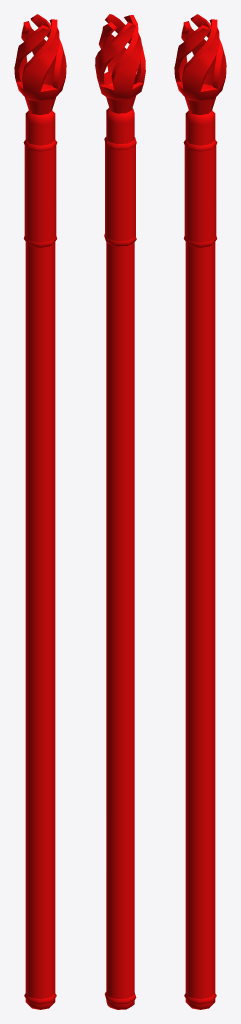
Rendered from Staff01.FBX.
3 renders of one model, left to right at view 1: azimuth 90°, elevation 25°; view 2: azimuth 210°, elevation 25°; view 3: azimuth 270°, elevation 25°, orthographic.
Visible parts, largest first — view 1: Staff01; view 2: Staff01; view 3: Staff01.
Part boxes in pixels (bbox=[...]): Staff01: bbox=[14, 14, 66, 1009]; Staff01: bbox=[95, 14, 145, 1009]; Staff01: bbox=[174, 14, 226, 1009].
Size of the model in its own units: 2.4 by 2.4 by 50.04.
